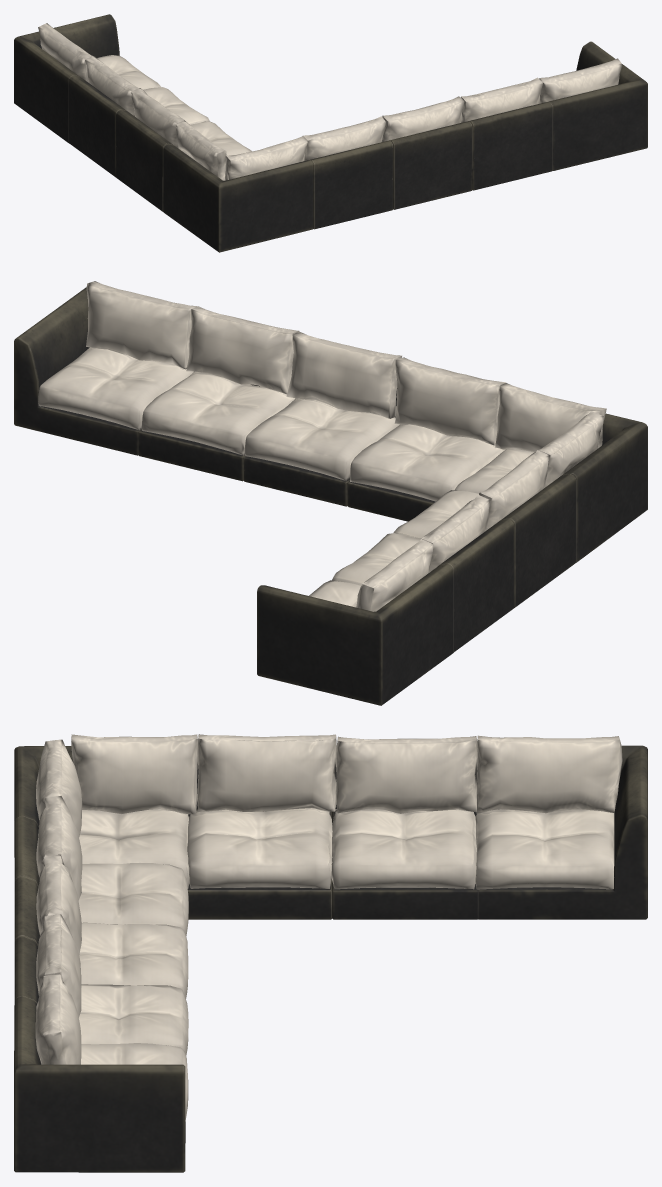
3 views of the same model, one above another, from view 1: azimuth 30°, elevation 25°; view 2: azimuth 150°, elevation 25°; view 3: azimuth 270°, elevation 25° (orthographic). The views are drawn at different scales.
Parts seen in each view (by area): view 1: L couch Low Poly; view 2: L couch Low Poly; view 3: L couch Low Poly.
Boxes of the visible parts, left/top/right/bottom form: L couch Low Poly: left=14, top=14, right=647, bottom=252; L couch Low Poly: left=14, top=281, right=647, bottom=705; L couch Low Poly: left=14, top=734, right=647, bottom=1172.
Bounding box in the file's own units: 5.24 × 0.9688 × 4.31.
1 material, 1 textured.
